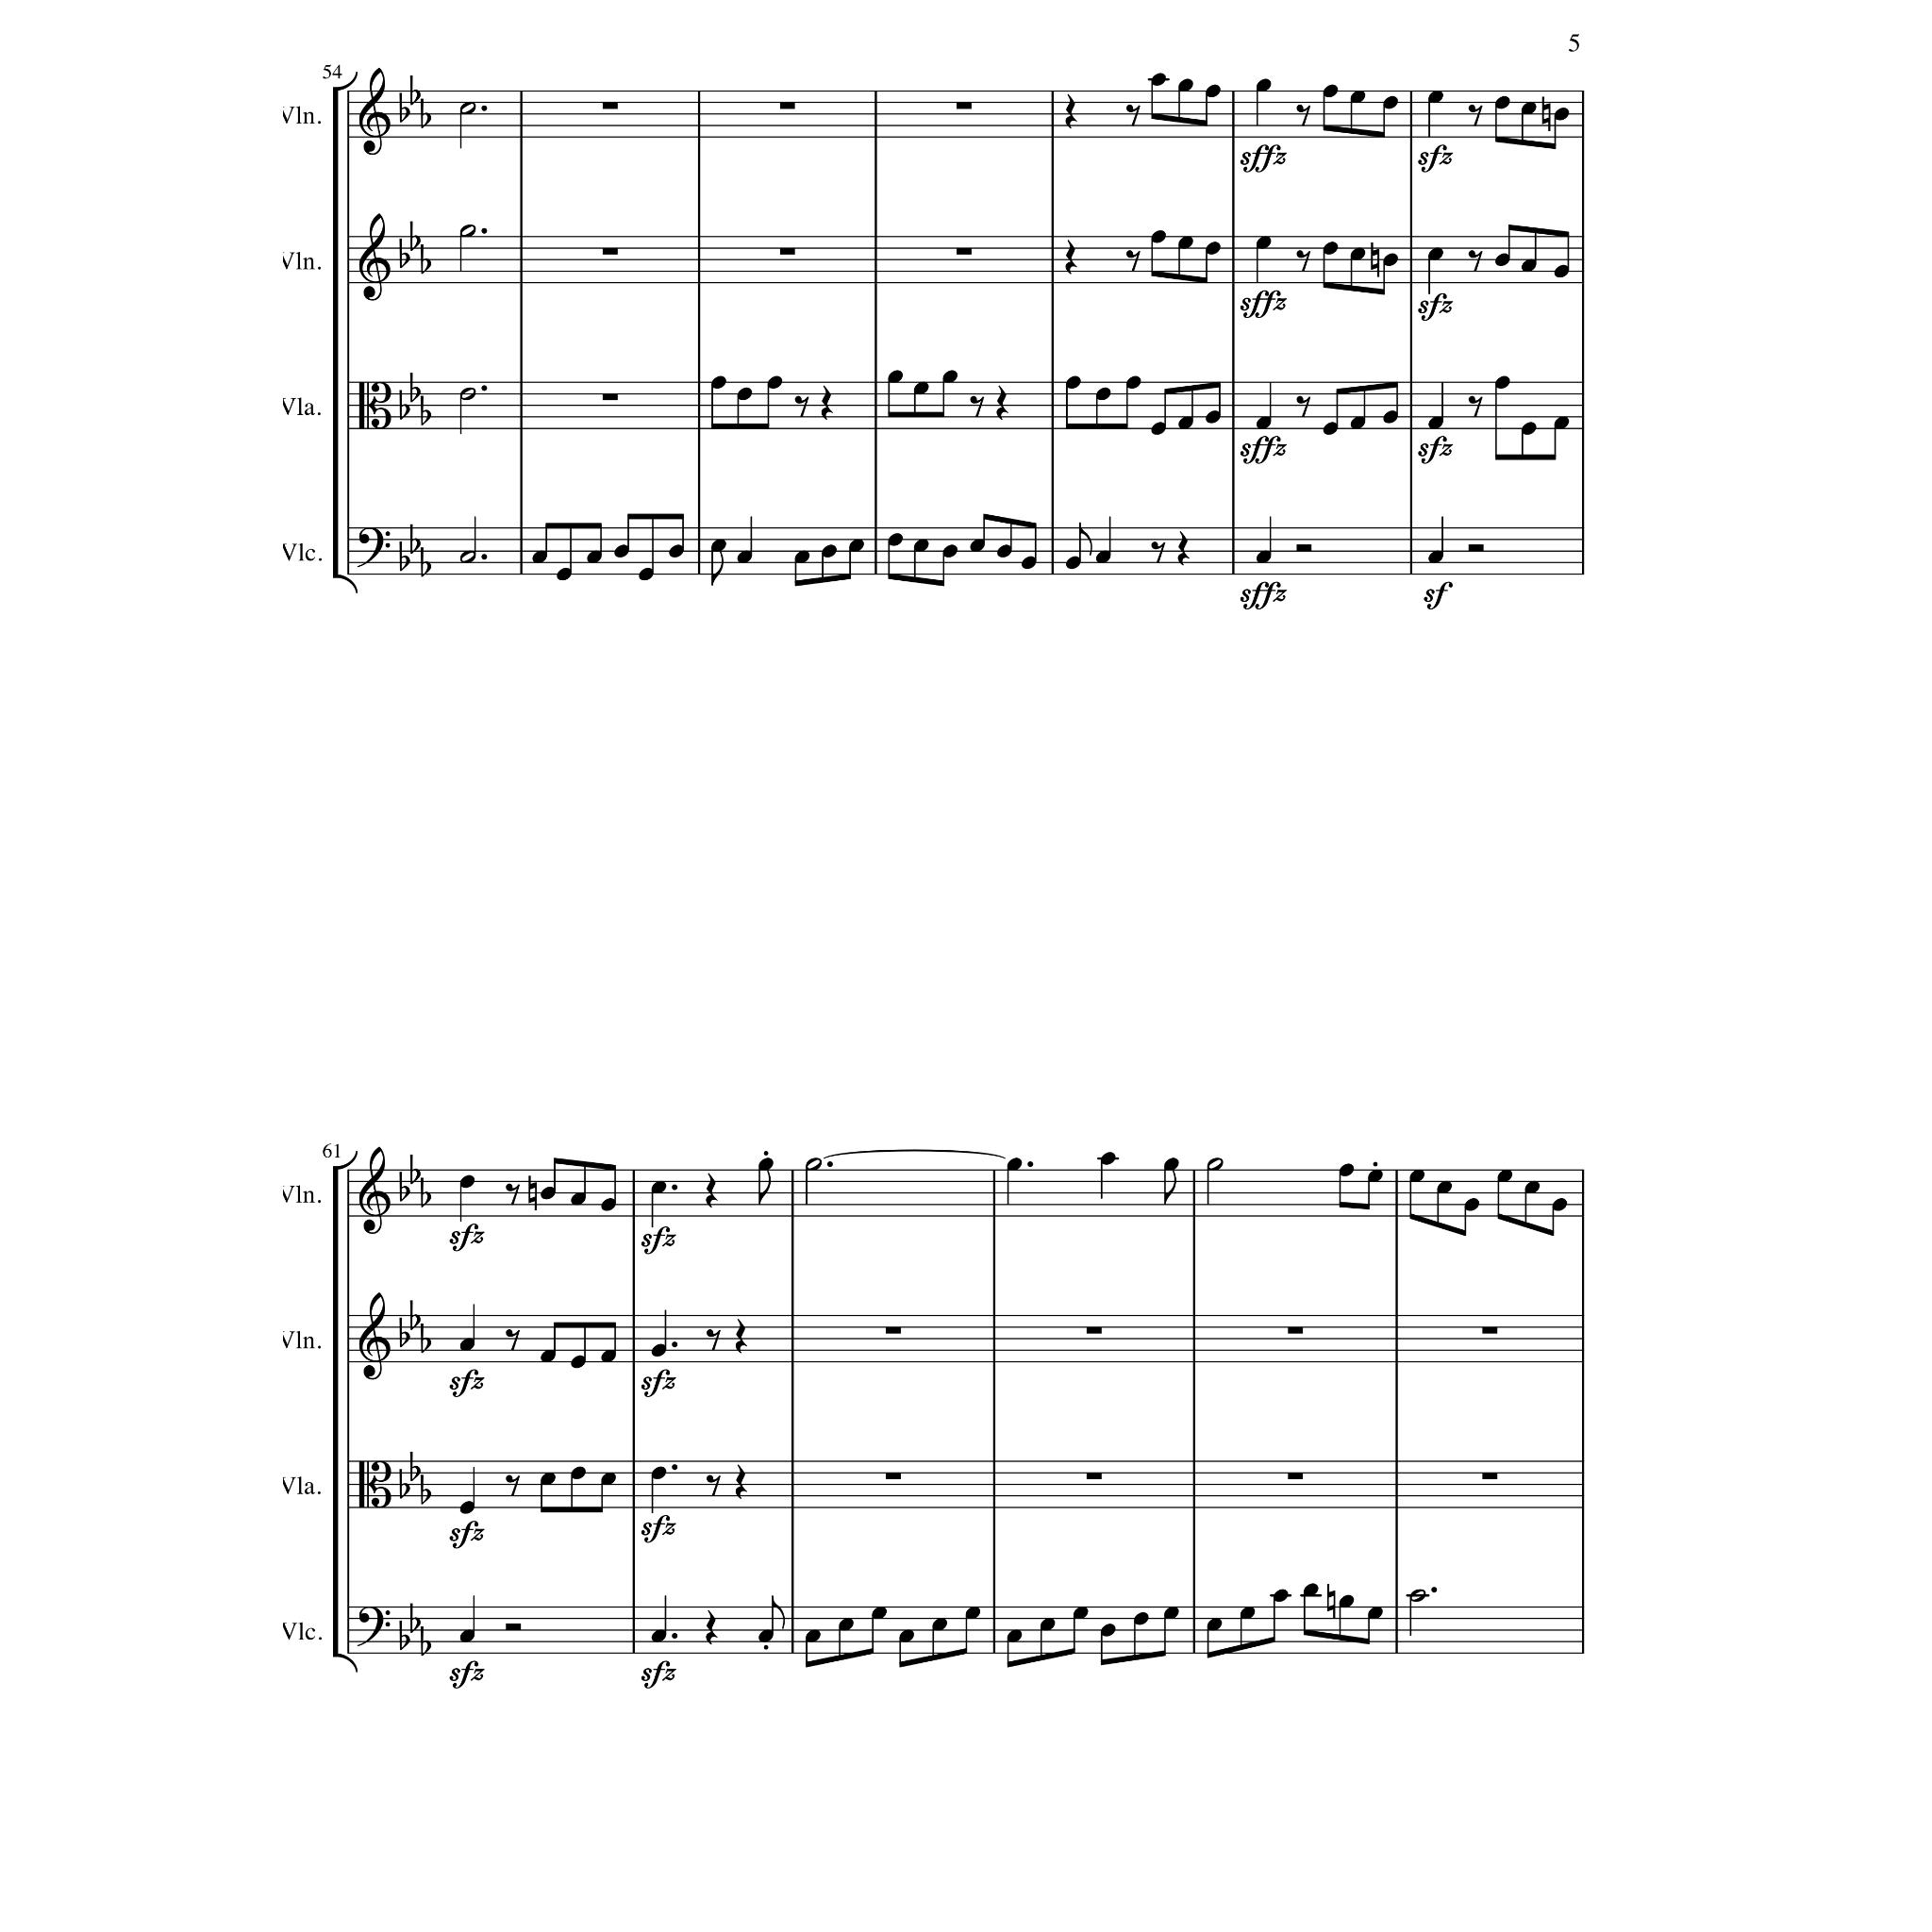fClef: (357, 527, 391, 568), (357, 1606, 391, 1647)
flag8thDown: (1164, 1169, 1177, 1205), (759, 1169, 771, 1205), (711, 552, 724, 586)
flag8thUp: (771, 1596, 786, 1629), (1079, 522, 1092, 557)
gClef: (359, 67, 391, 156), (359, 214, 391, 303), (359, 1292, 391, 1380), (359, 1146, 391, 1235)
noteheadBlack: (531, 550, 548, 564), (886, 533, 904, 547), (1099, 1152, 1116, 1166), (1350, 90, 1366, 104), (1350, 248, 1366, 262), (1350, 416, 1366, 430), (1322, 242, 1338, 257), (1382, 253, 1398, 267), (1322, 423, 1338, 437), (1382, 96, 1398, 110), (1178, 235, 1194, 249), (1178, 416, 1194, 430), (1150, 230, 1166, 244), (1150, 423, 1166, 437), (1205, 242, 1221, 257), (1520, 423, 1536, 437), (1553, 416, 1569, 430), (1428, 90, 1444, 104), (1428, 248, 1444, 262), (1428, 416, 1444, 430), (1428, 550, 1444, 564), (1495, 96, 1511, 110), (1495, 253, 1511, 267), (711, 538, 727, 552), (669, 545, 685, 559), (586, 550, 602, 564), (614, 545, 630, 559), (794, 550, 810, 564), (821, 545, 837, 559), (736, 387, 752, 402), (736, 550, 752, 564), (996, 545, 1012, 559), (1095, 387, 1111, 402), (1095, 550, 1111, 564), (913, 538, 929, 552), (849, 538, 865, 552), (941, 545, 957, 559), (970, 538, 985, 552), (1164, 1157, 1180, 1171), (1164, 1606, 1180, 1621), (1207, 1617, 1223, 1631), (1240, 1606, 1256, 1621), (1272, 1589, 1288, 1603), (964, 1606, 980, 1621), (1007, 1157, 1023, 1171), (1007, 1629, 1023, 1644), (1134, 1612, 1150, 1626), (1039, 1617, 1054, 1631), (1072, 1606, 1088, 1621), (1497, 1169, 1513, 1184), (1552, 1198, 1568, 1212), (1368, 1169, 1384, 1184), (1368, 1606, 1384, 1621), (1408, 1169, 1424, 1184), (1338, 1162, 1353, 1177), (1463, 1198, 1479, 1212), (570, 1355, 586, 1369), (570, 1192, 586, 1207), (570, 1465, 586, 1479), (540, 1472, 556, 1486), (651, 1629, 667, 1644), (600, 1472, 616, 1486), (600, 1198, 616, 1212), (458, 1338, 474, 1352), (458, 1500, 474, 1514), (458, 1629, 474, 1644), (651, 1465, 667, 1479), (805, 1629, 821, 1644), (757, 1157, 773, 1171), (757, 1629, 773, 1644), (870, 1606, 886, 1621), (839, 1617, 855, 1631), (899, 1629, 915, 1644), (886, 372, 904, 384), (1099, 1624, 1116, 1637), (1256, 550, 1270, 564), (1256, 235, 1270, 249), (1256, 416, 1270, 430), (932, 1617, 947, 1631), (1150, 74, 1166, 87), (1322, 85, 1338, 97), (1382, 410, 1398, 423), (1178, 80, 1194, 92), (1205, 85, 1221, 97), (1205, 410, 1221, 423), (1553, 108, 1569, 120), (1553, 265, 1569, 278), (1520, 260, 1536, 272), (1495, 377, 1511, 389), (1520, 103, 1536, 115), (711, 377, 727, 389), (639, 568, 655, 580), (766, 377, 782, 389), (556, 568, 571, 580), (1065, 377, 1081, 389), (1065, 557, 1081, 570), (1021, 557, 1037, 570), (1125, 377, 1141, 389), (913, 382, 929, 395), (941, 372, 957, 384), (1523, 1182, 1539, 1194), (1302, 1583, 1318, 1596), (1338, 1596, 1353, 1608), (1437, 1182, 1453, 1194), (540, 1187, 556, 1200), (540, 1350, 556, 1362), (651, 1182, 667, 1194), (651, 1345, 667, 1357), (600, 1350, 616, 1362), (458, 1175, 474, 1187), (1256, 80, 1270, 92)
noteheadHalf: (1207, 1157, 1224, 1171), (460, 387, 476, 402), (460, 550, 476, 564), (1410, 1589, 1426, 1603), (805, 1157, 821, 1171), (460, 103, 476, 115), (460, 225, 476, 237)
rest8th: (1125, 104, 1141, 127), (1125, 249, 1141, 272), (504, 1329, 520, 1352), (504, 1474, 520, 1497), (504, 1184, 520, 1205), (1297, 104, 1311, 127), (1297, 249, 1311, 272), (1297, 396, 1311, 419), (1152, 541, 1166, 564), (1468, 104, 1483, 127), (1468, 249, 1483, 272), (1468, 396, 1483, 419), (794, 396, 809, 419), (970, 396, 984, 419), (706, 1329, 720, 1352), (706, 1474, 720, 1497)
restHalf: (1295, 545, 1311, 552), (1467, 545, 1483, 552), (506, 1624, 522, 1631)
restQuarter: (1065, 239, 1077, 276), (1178, 531, 1191, 566), (821, 386, 833, 421), (1065, 94, 1077, 129), (996, 386, 1008, 421), (734, 1318, 747, 1353), (734, 1465, 747, 1500), (706, 1173, 718, 1208), (706, 1610, 718, 1645)
restWhole: (602, 393, 619, 402), (885, 1472, 901, 1481), (1288, 1472, 1304, 1481), (1086, 1472, 1102, 1481), (1481, 1472, 1497, 1481), (602, 103, 619, 110), (602, 248, 619, 255), (955, 248, 971, 255), (955, 103, 971, 110), (778, 248, 794, 255), (778, 103, 794, 110), (1086, 1327, 1102, 1334), (885, 1327, 901, 1334), (1288, 1327, 1304, 1334), (1481, 1327, 1497, 1334)
